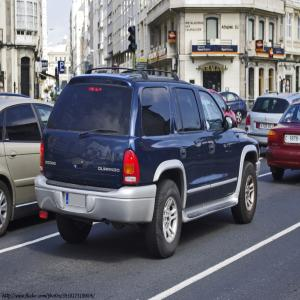Vehicle-registration-plate: (285, 136, 300, 146), (260, 125, 275, 130)
